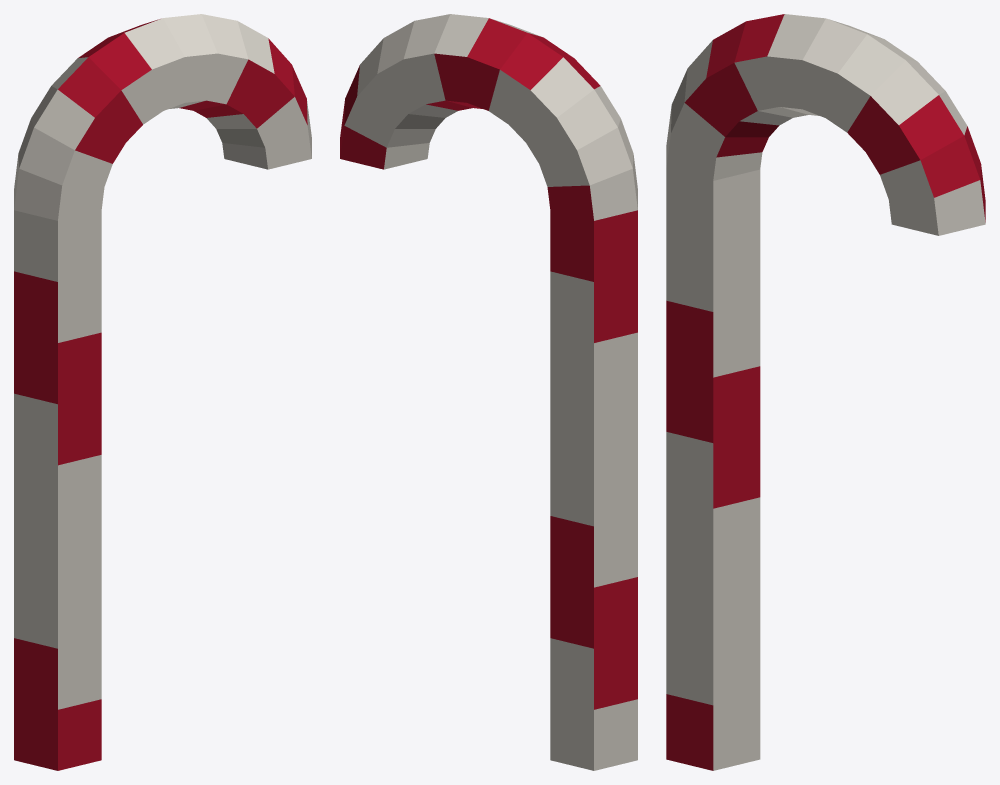
Rendered from candy-cane-eb113b.glb.
The picture shows the model from 3 angles, left to right: view 1: azimuth 30°, elevation 25°; view 2: azimuth 150°, elevation 25°; view 3: azimuth 330°, elevation 25°; orthographic projection. The views are drawn at different scales.
Size of the model in its own units: 0.085 by 0.1925 by 0.0217.
